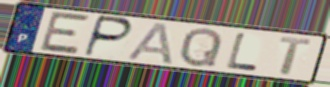A: (125, 21, 176, 66)
E: (37, 10, 93, 56)
L: (224, 31, 259, 73)
P: (81, 14, 135, 59)
Q: (177, 26, 225, 68)
T: (278, 36, 314, 77)
